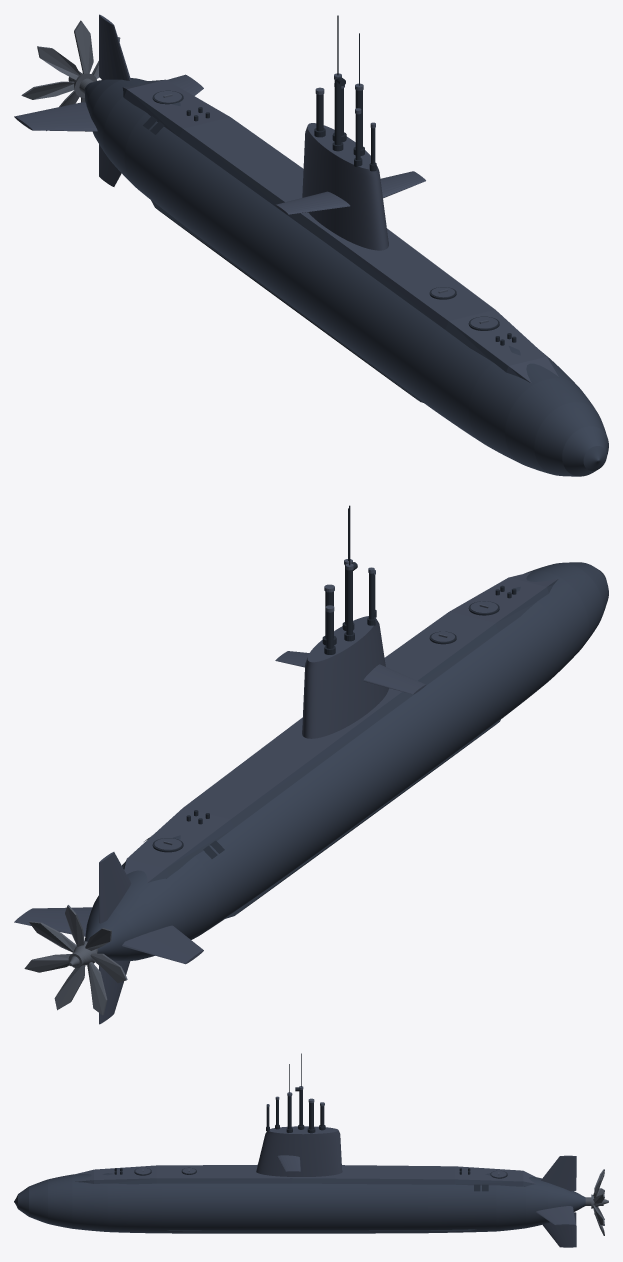
Rendered from submarine_3D_mesh.glb.
The picture shows the model from 3 angles, top to bottom: view 1: azimuth 30°, elevation 25°; view 2: azimuth 150°, elevation 25°; view 3: azimuth 270°, elevation 25°; orthographic projection. The views are drawn at different scales.
Parts seen in each view (by area): view 1: Submarine_Reference_Mesh; view 2: Submarine_Reference_Mesh; view 3: Submarine_Reference_Mesh.
Boxes of the visible parts, bbox=[...] form: Submarine_Reference_Mesh: bbox=[14, 14, 608, 476]; Submarine_Reference_Mesh: bbox=[14, 505, 608, 1024]; Submarine_Reference_Mesh: bbox=[14, 1053, 608, 1247].
Size of the model in its own units: 4.1 by 7.8 by 21.9.
